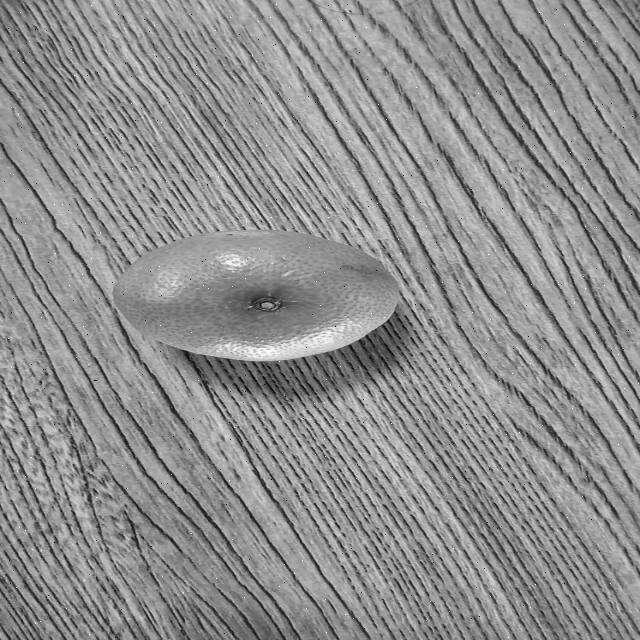Jeruk Mandarin: (113, 225, 404, 366)
